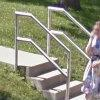stairs: (29, 56, 89, 99)
